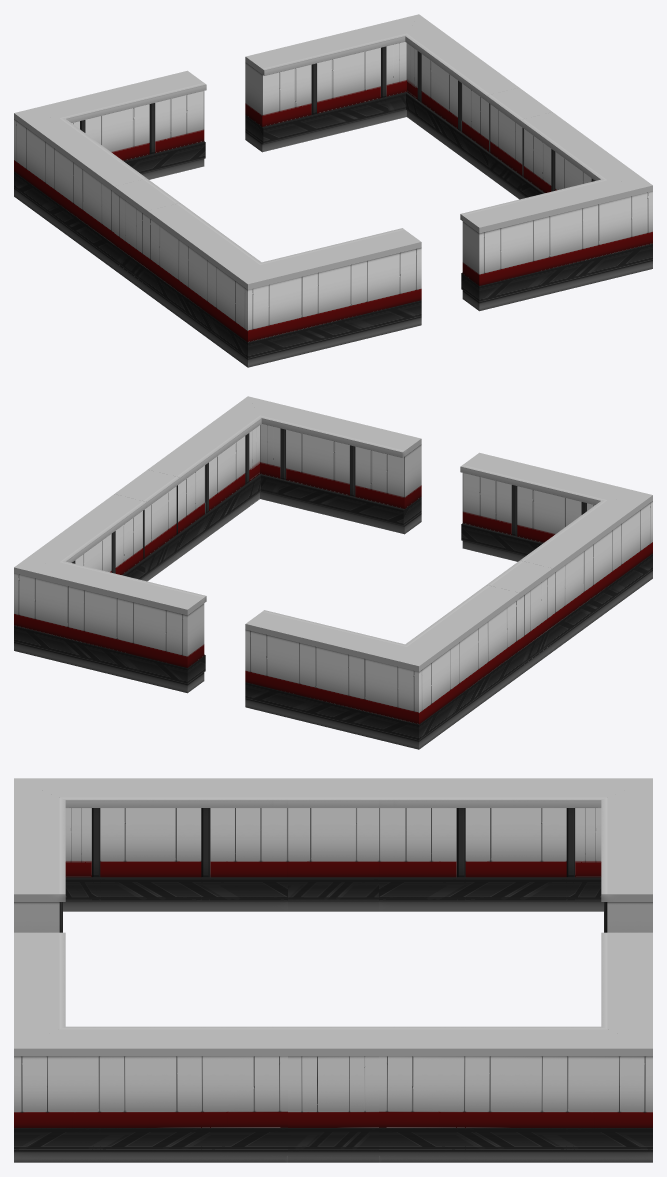
Rendered from Room02.FBX.
3 views of the same model, one above another, from view 1: azimuth 30°, elevation 25°; view 2: azimuth 150°, elevation 25°; view 3: azimuth 270°, elevation 25° (orthographic). The views are drawn at different scales.
Parts seen in each view (by area): view 1: Box047, Box049, Box052, Box055, Box050, Box054, Box051, Box048, Box056, Box015; view 2: Box052, Box054, Box047, Box050, Box055, Box049, Box048, Box051, Box056, Box015; view 3: Box048, Box051, Box050, Box055, Box015, Box056, Box049, Box054, Box047, Box052.
Part boxes in pixels (<box>): Box047: <box>460,179,652,311</box>; Box049: <box>248,228,421,367</box>; Box052: <box>245,14,418,152</box>; Box055: <box>14,113,146,269</box>; Box050: <box>147,203,261,367</box>; Box054: <box>15,70,206,179</box>; Box051: <box>405,14,518,177</box>; Box048: <box>520,112,652,198</box>; Box056: <box>114,178,179,293</box>; Box015: <box>486,87,551,199</box>; Box052: <box>14,561,206,693</box>; Box054: <box>245,610,418,749</box>; Box047: <box>248,396,421,534</box>; Box050: <box>520,495,652,651</box>; Box055: <box>405,585,519,749</box>; Box049: <box>460,452,651,561</box>; Box048: <box>148,396,261,559</box>; Box051: <box>14,494,146,580</box>; Box056: <box>487,560,552,675</box>; Box015: <box>115,469,180,581</box>; Box048: <box>14,1026,287,1162</box>; Box051: <box>379,1026,652,1162</box>; Box050: <box>14,778,287,911</box>; Box055: <box>379,778,652,911</box>; Box015: <box>288,1026,378,1162</box>; Box056: <box>288,778,378,911</box>; Box049: <box>14,778,65,932</box>; Box054: <box>601,778,652,932</box>; Box047: <box>14,932,65,1048</box>; Box052: <box>601,932,652,1048</box>.
Size of the model in its own units: 140 by 27.57 by 140.
Materials: 1 (1 with a texture image).
